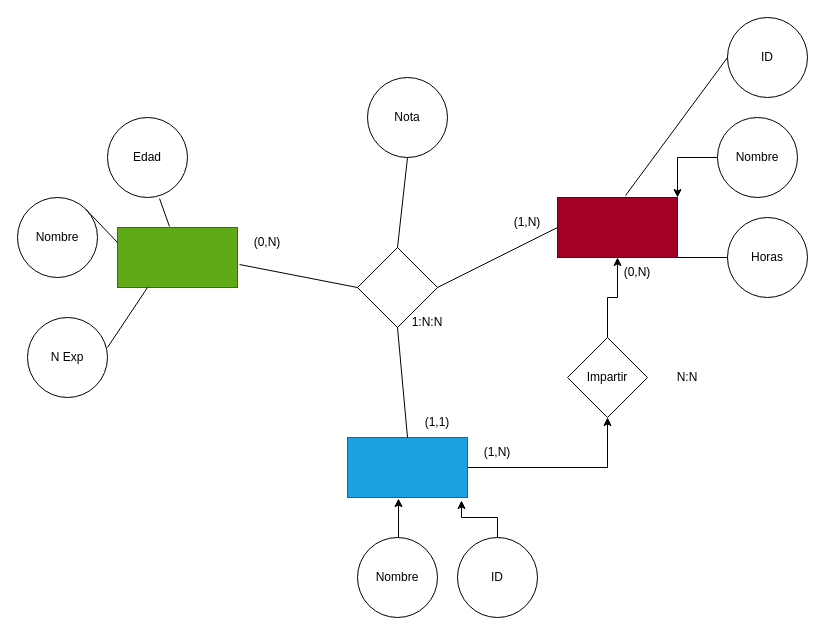
The diagram is 825 pixels wide and 635 high, and some of its shapes have lost their labels. Here are the shapes that lost their labels. From the top down, the box of each, then its label:
(556, 196, 678, 258): Asignatura
(116, 226, 238, 288): Alumno
(356, 246, 438, 328): Matricula
(346, 436, 468, 498): Profesor
